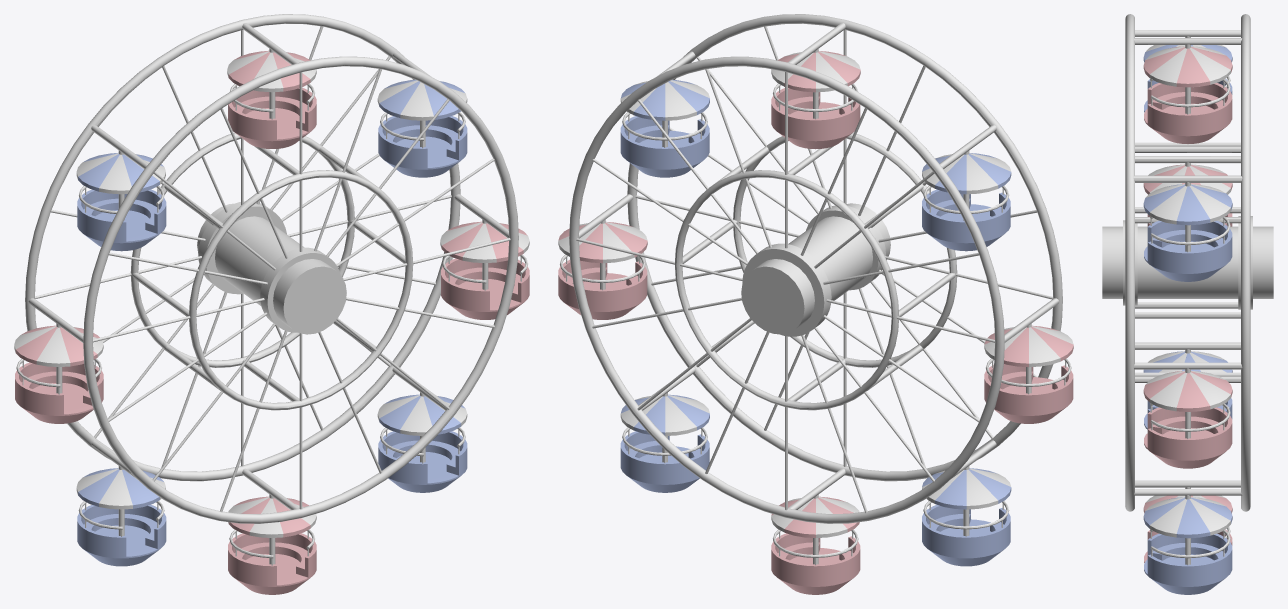
Rendered from Ferris01.glb.
3 renders of one model, left to right at view 1: azimuth 30°, elevation 25°; view 2: azimuth 150°, elevation 25°; view 3: azimuth 270°, elevation 25°, orthographic.
Parts seen in each view (by area): view 1: FerrisWheel02, F08, F04, F07, F01, F02, F06, F03, F05; view 2: FerrisWheel02, F08, F04, F07, F01, F02, F03, F05, F06; view 3: FerrisWheel02, F03, F04, F02, F05, F08, F07, F01, F06.
Boxes of the visible parts, x1,y1,x2,y2 form: FerrisWheel02: (25,14,518,523); F08: (76,466,166,566); F04: (377,79,467,177); F07: (14,323,103,423); F01: (228,494,316,594); F02: (377,392,467,492); F06: (76,150,166,251); F03: (440,219,529,319); F05: (227,48,316,148); FerrisWheel02: (569,14,1062,523); F08: (922,466,1011,566); F04: (620,79,709,177); F07: (984,323,1073,423); F01: (771,494,860,594); F02: (620,392,709,492); F03: (558,219,647,319); F05: (771,48,860,149); F06: (922,151,1011,251); FerrisWheel02: (1102,14,1273,511); F03: (1143,368,1232,468); F04: (1143,182,1232,281); F02: (1143,495,1232,594); F05: (1143,44,1232,143); F08: (1143,349,1232,429); F07: (1143,162,1232,226); F01: (1143,487,1232,562); F06: (1143,36,1232,112).
Bounding box in the file's own units: 2.6 × 2.68 × 0.7729.
